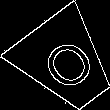O_SE: (32, 30, 100, 96)
